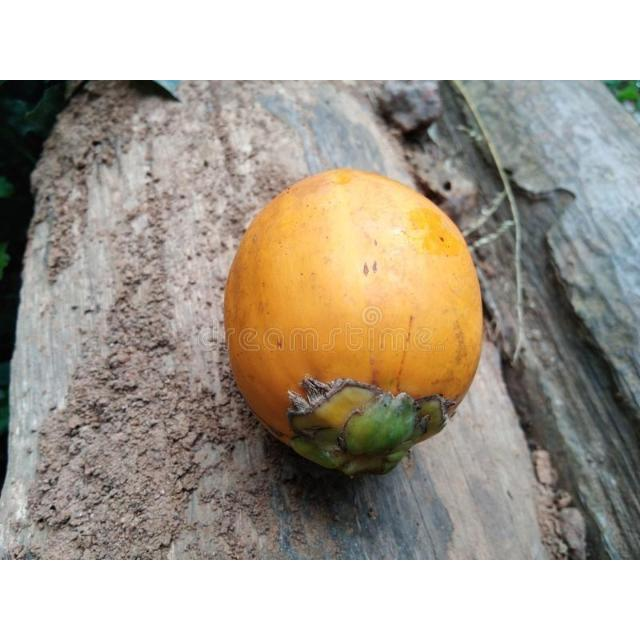good: (222, 168, 485, 480)
